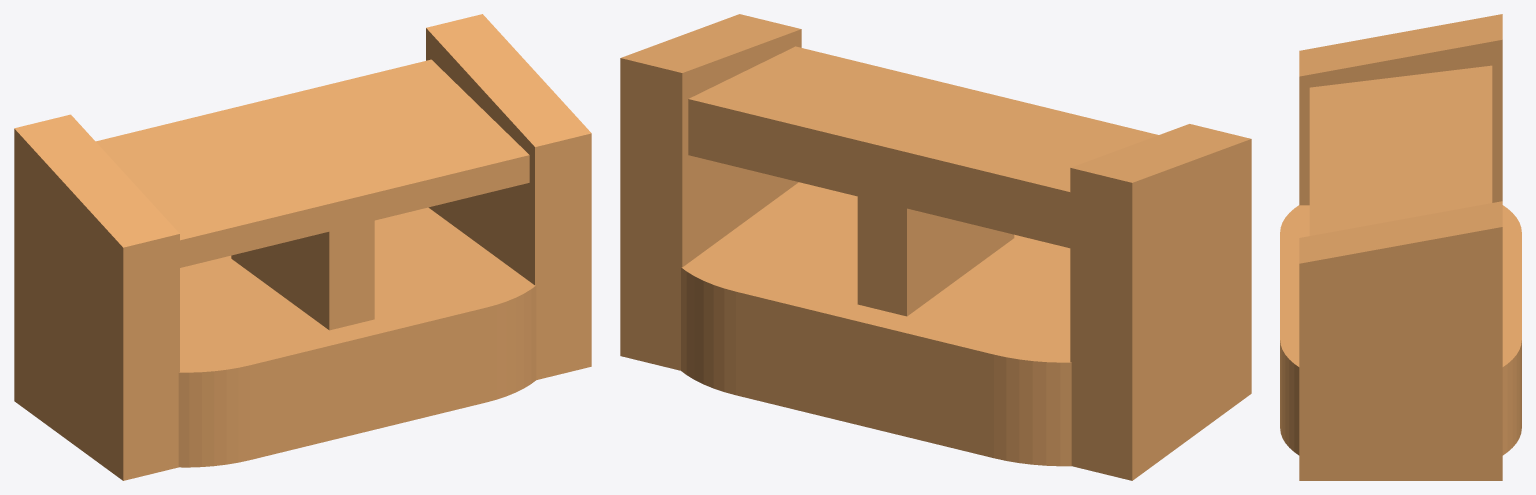
The model's file is racer-spoiler.glb.
3 renders of one model, left to right at view 1: azimuth 30°, elevation 25°; view 2: azimuth 150°, elevation 25°; view 3: azimuth 270°, elevation 25°, orthographic. The views are drawn at different scales.
Visible parts, largest first — view 1: racer-spoiler; view 2: racer-spoiler; view 3: racer-spoiler.
Boxes of the visible parts, left/top/right/bottom form: racer-spoiler: left=14, top=14, right=591, bottom=480; racer-spoiler: left=620, top=14, right=1251, bottom=480; racer-spoiler: left=1280, top=14, right=1521, bottom=480.
Size of the model in its own units: 0.0248 by 0.0138 by 0.0119.
